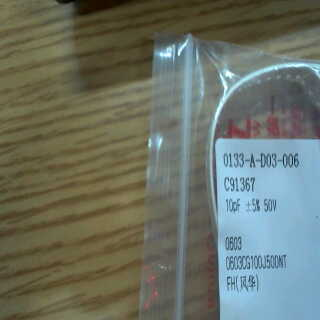10pF: (224, 198, 248, 217)
